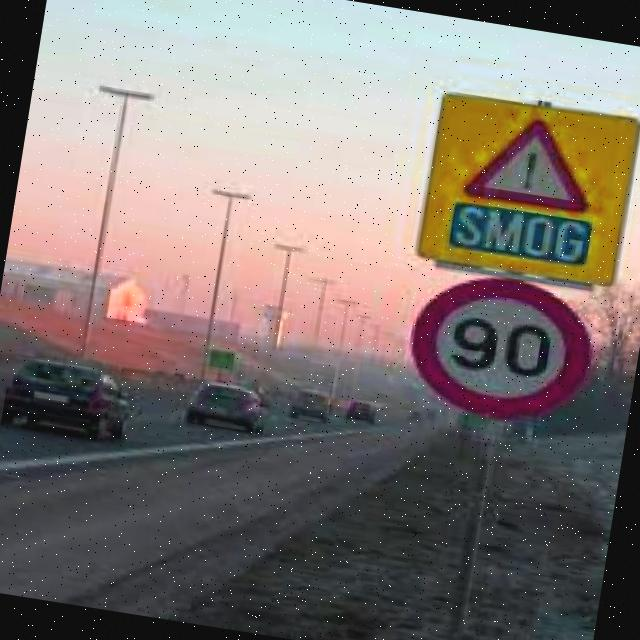Ograniczenie predkosci do 90: (407, 268, 595, 428)
